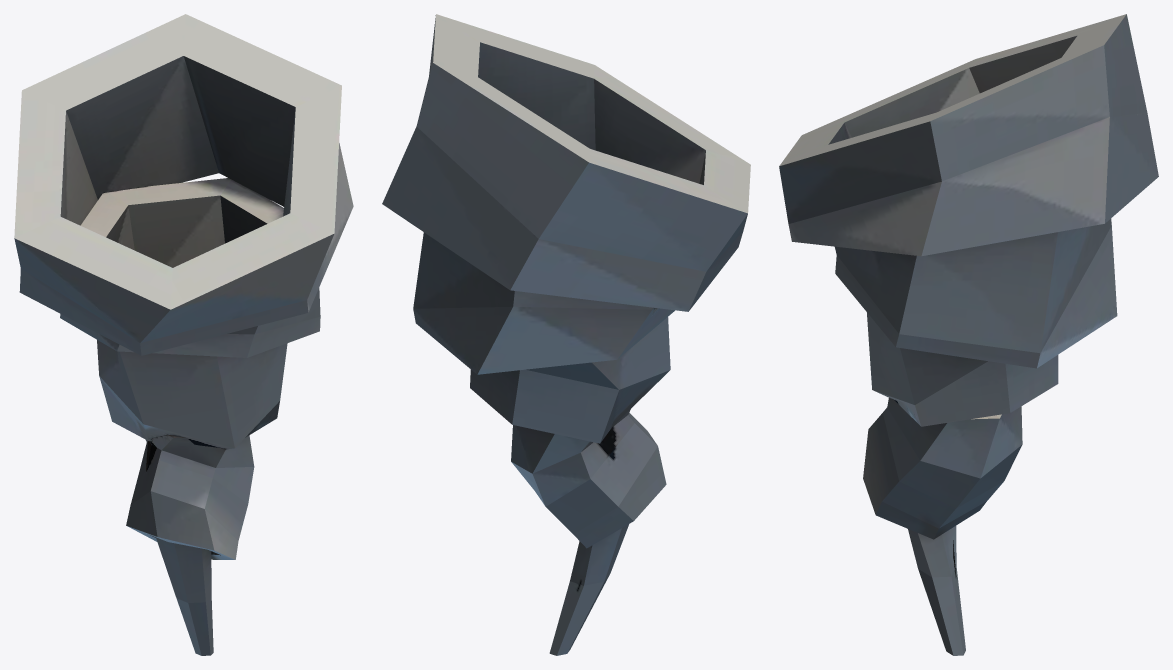
Rendered from 2TBzV_5N0ci.glb.
3 views of the same model, side by side, from view 1: azimuth 30°, elevation 25°; view 2: azimuth 150°, elevation 25°; view 3: azimuth 270°, elevation 25° (orthographic). The views are drawn at different scales.
Visible parts, largest first — view 1: tornado; view 2: tornado; view 3: tornado.
Part boxes in pixels (left/top/right/bottom): tornado: left=14, top=14, right=353, bottom=655; tornado: left=382, top=14, right=750, bottom=655; tornado: left=779, top=14, right=1158, bottom=655.
Size of the model in its own units: 1.26 by 2.21 by 1.2.
Materials: 1 (1 with a texture image).
